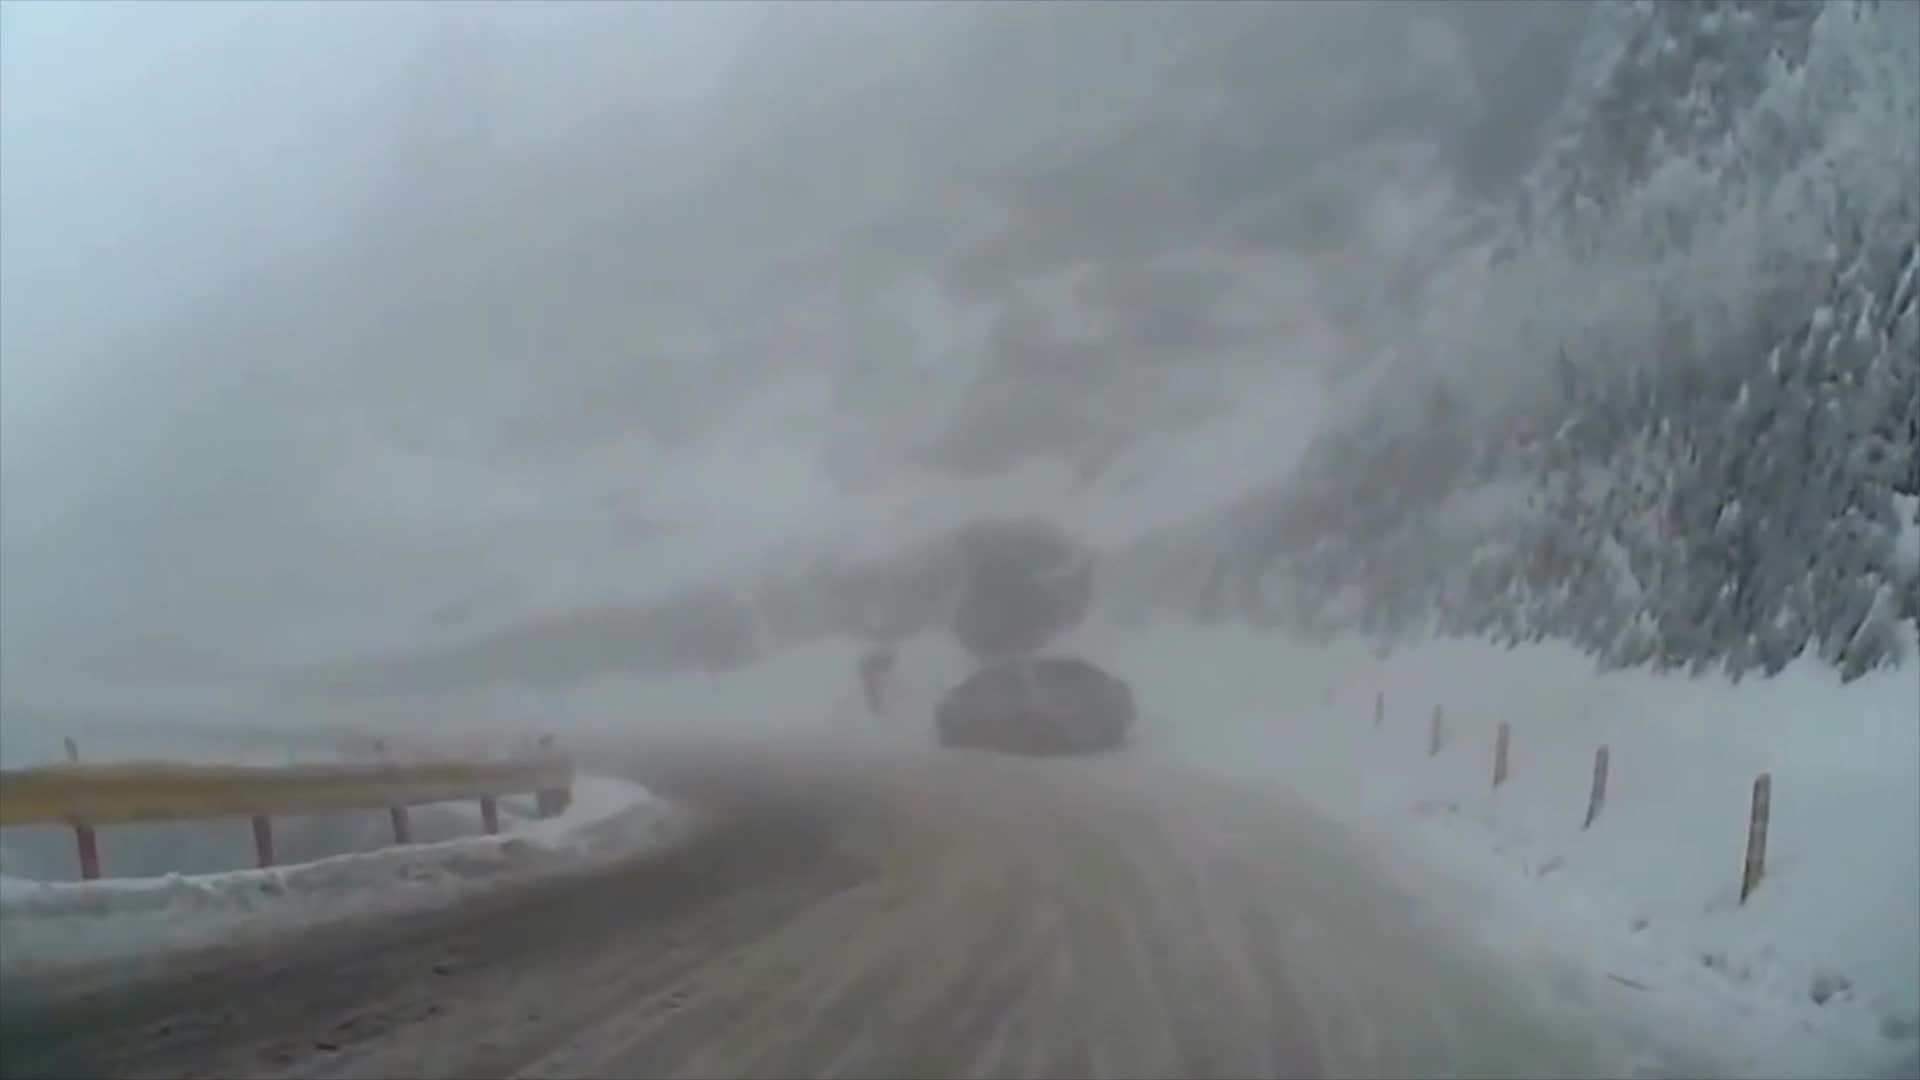pedestrian: (858, 648, 900, 717)
vehicle: (932, 655, 1128, 751)
